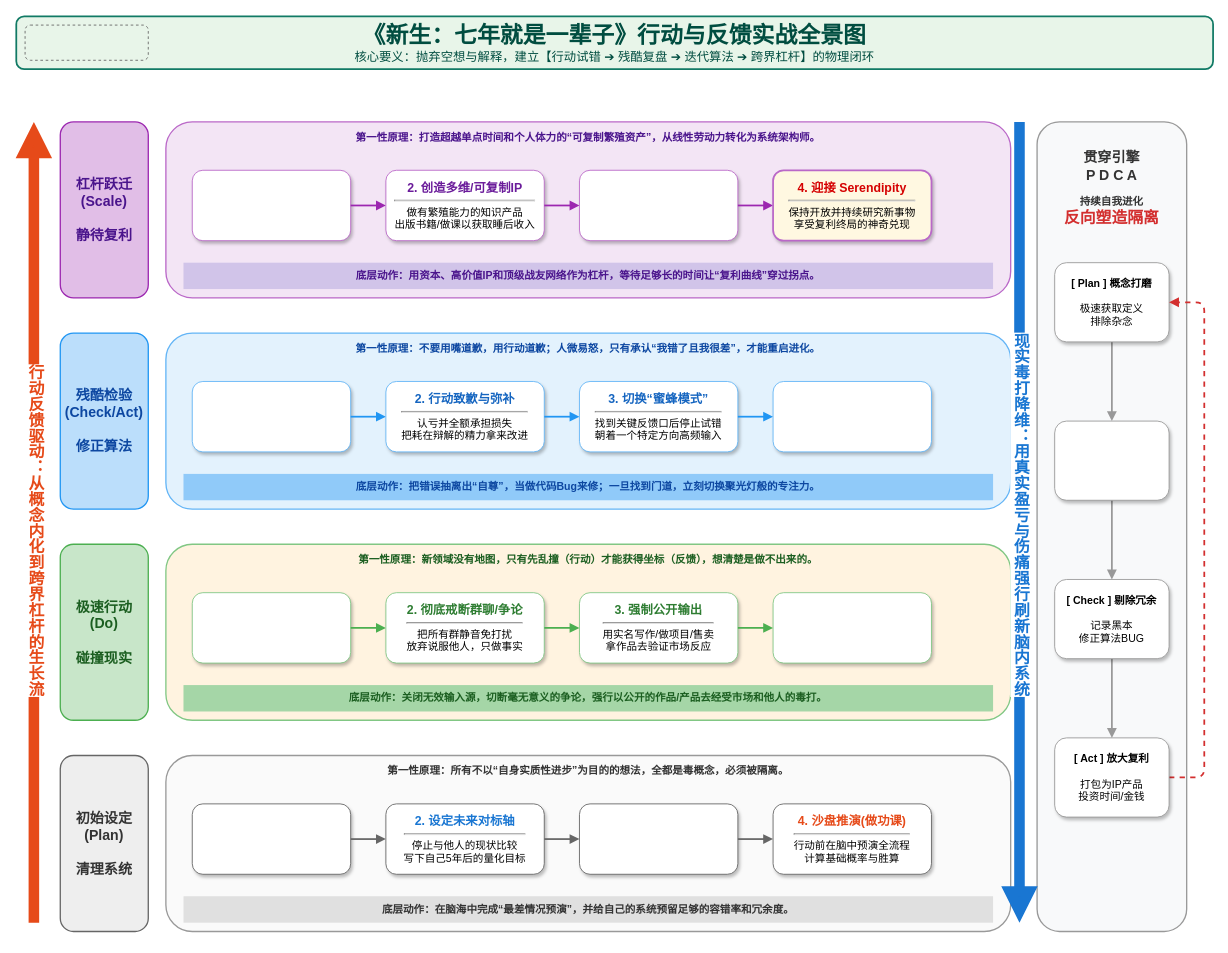
Some shapes in this 1228 by 953 pixel diagram are drawn without their labels. The shapes that lost their labels are listed below. From the top down, each one's centre as x and y in pixels, then its label:
pixel 86 42: #实战指南 #行动闭环 #PDCA迭代
pixel 272 206: 1. 阻断被动/面子支出 识别“必虚”与“必需”开销 停止为虚荣心支付复利利息
pixel 659 206: 3. 组建极高门槛战友局 只与有能力/肯付出的同类结盟 创造双赢甚至多赢局
pixel 272 417: 1. 建立「蠢事黑本」 写下所有因自欺欺人犯的蠢 作为筛子过滤未来的错误
pixel 853 417: 4. 教是最好的学 将修正后的方法论教给别人 在分享中完成知识的重组
pixel 1112 461: [ Do ] 暴力破冰 非登山的从容 而是死磕的破冰
pixel 272 628: 1. 开启“苍蝇模式” 在新领域无视嘲笑乱撞试错 快速多线程并发测试
pixel 853 628: 4. 承受现实反作用力 收获市场的唾骂或买单 感受真金白银的损失或盈利
pixel 272 839: 1. 识别并剔除毒概念 列出“表现型/要面子”的念头 强行转化为“进取型/要成长”
pixel 659 839: 3. 建立物理容错层 储蓄“防灾基金”/不All-in 接受自己和世界的不完美
